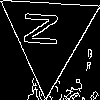N: (23, 10, 66, 49)
